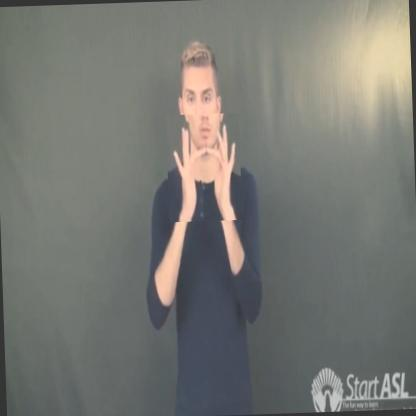Internet: (166, 112, 242, 223)
